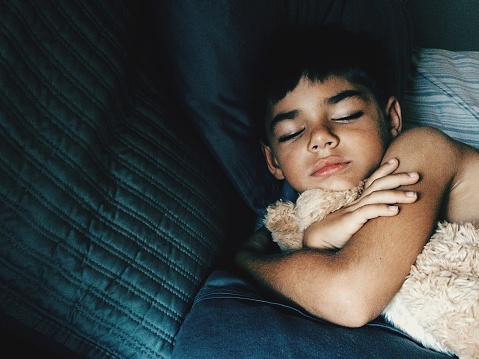deitado: (181, 2, 471, 359)
